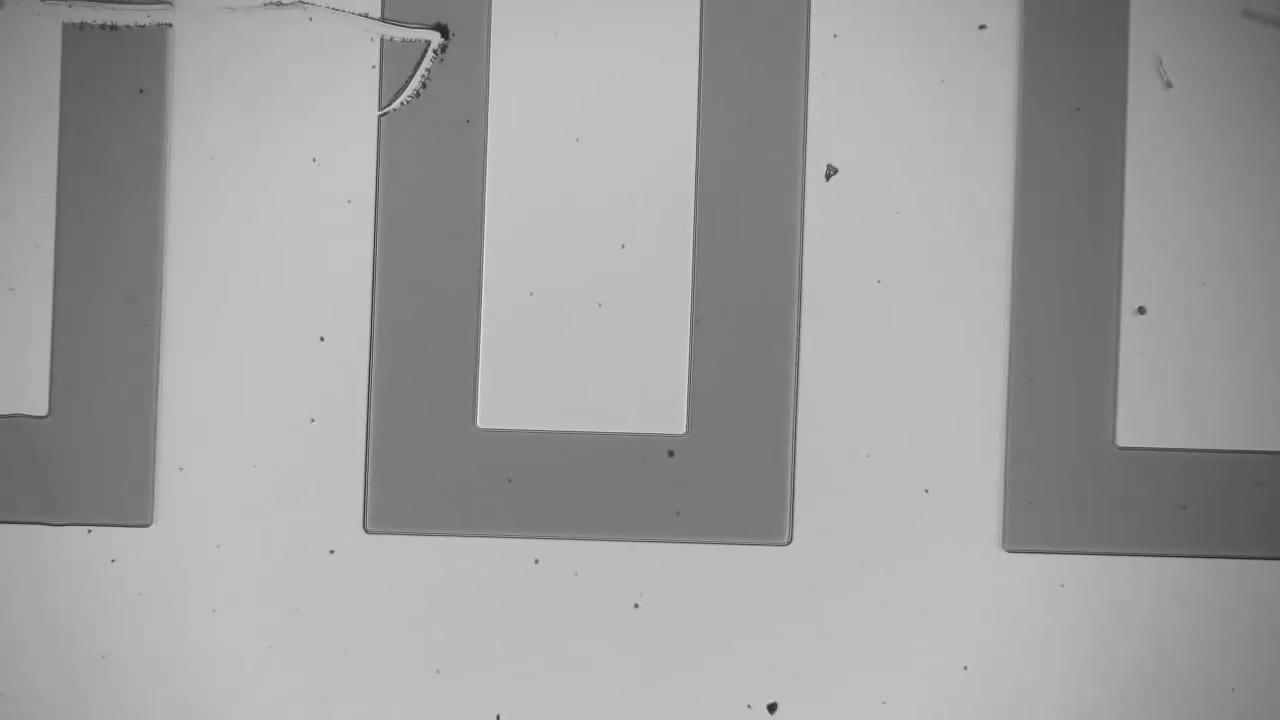Short_circuit: (51, 1, 175, 59)
